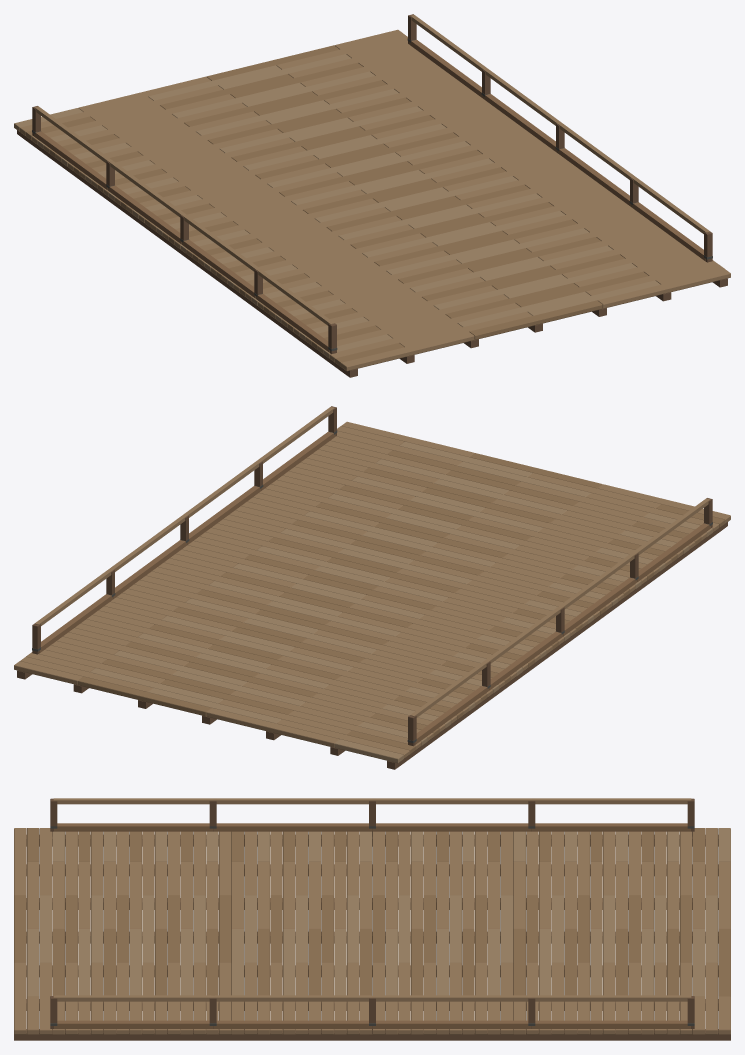
File: CenterBridge.glb
3 views of the same model, one above another, from view 1: azimuth 30°, elevation 25°; view 2: azimuth 150°, elevation 25°; view 3: azimuth 270°, elevation 25° (orthographic). The views are drawn at different scales.
Visible parts, largest first — view 1: RunningDeck, WestRail-col, EastRail-col, Bearers-col; view 2: RunningDeck, WestRail-col, EastRail-col, Bearers-col; view 3: RunningDeck, EastRail-col, WestRail-col, Bearers-col.
Boxes of the visible parts, x1,y1,x2,y2 form: RunningDeck: [14, 29, 730, 371]; WestRail-col: [32, 106, 337, 360]; EastRail-col: [407, 14, 712, 262]; Bearers-col: [17, 130, 727, 377]; RunningDeck: [14, 421, 730, 763]; WestRail-col: [407, 498, 712, 752]; EastRail-col: [32, 406, 337, 654]; Bearers-col: [17, 522, 727, 769]; RunningDeck: [14, 828, 730, 1034]; EastRail-col: [50, 995, 694, 1035]; WestRail-col: [50, 798, 694, 836]; Bearers-col: [14, 835, 730, 1040].
Bounding box in the file's own units: 11.99 × 1.21 × 18.
